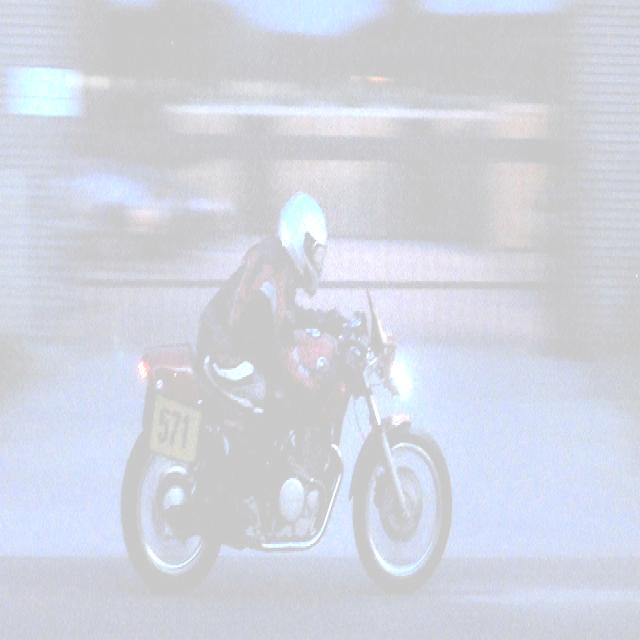Motorbike: (117, 285, 450, 599)
